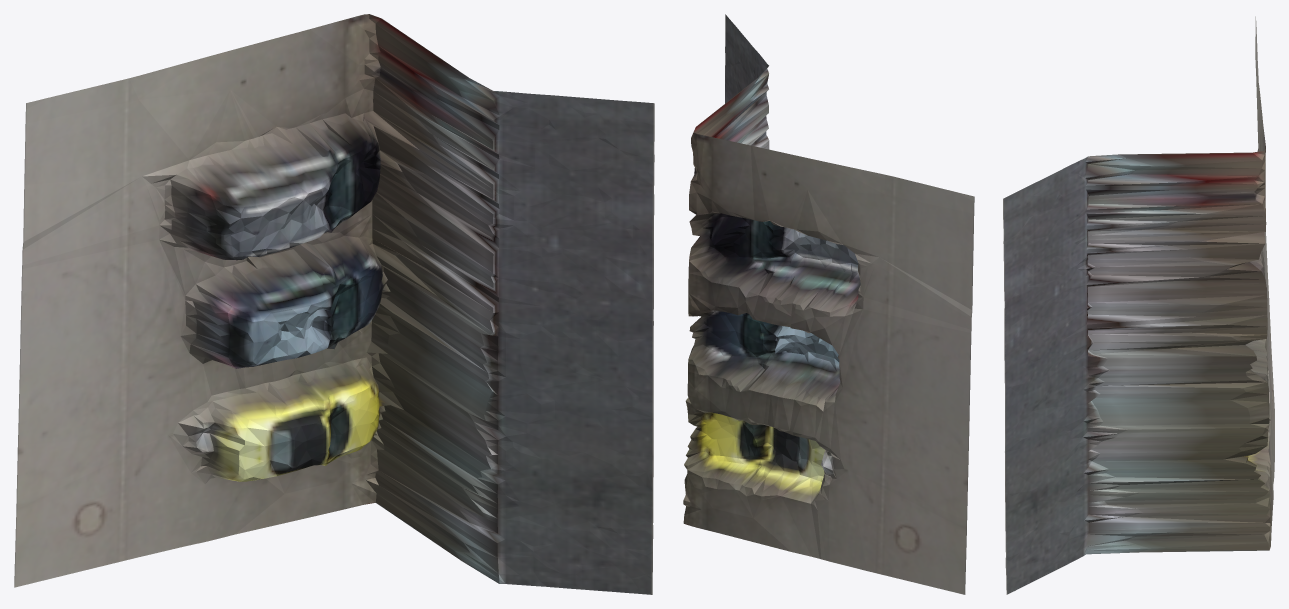
Rendered from map_70_90.obj.
3 views of the same model, side by side, from view 1: azimuth 30°, elevation 25°; view 2: azimuth 150°, elevation 25°; view 3: azimuth 270°, elevation 25° (orthographic). The views are drawn at different scales.
Visible parts, largest first — view 1: grp1; view 2: grp1; view 3: grp1.
Boxes of the visible parts, x1=… form: grp1: x1=14, y1=14, x2=654, y2=594; grp1: x1=683, y1=14, x2=974, y2=594; grp1: x1=1003, y1=16, x2=1274, y2=594.
Bounding box in the file's own units: 10 × 10 × 6.22.
1 material, 1 textured.
